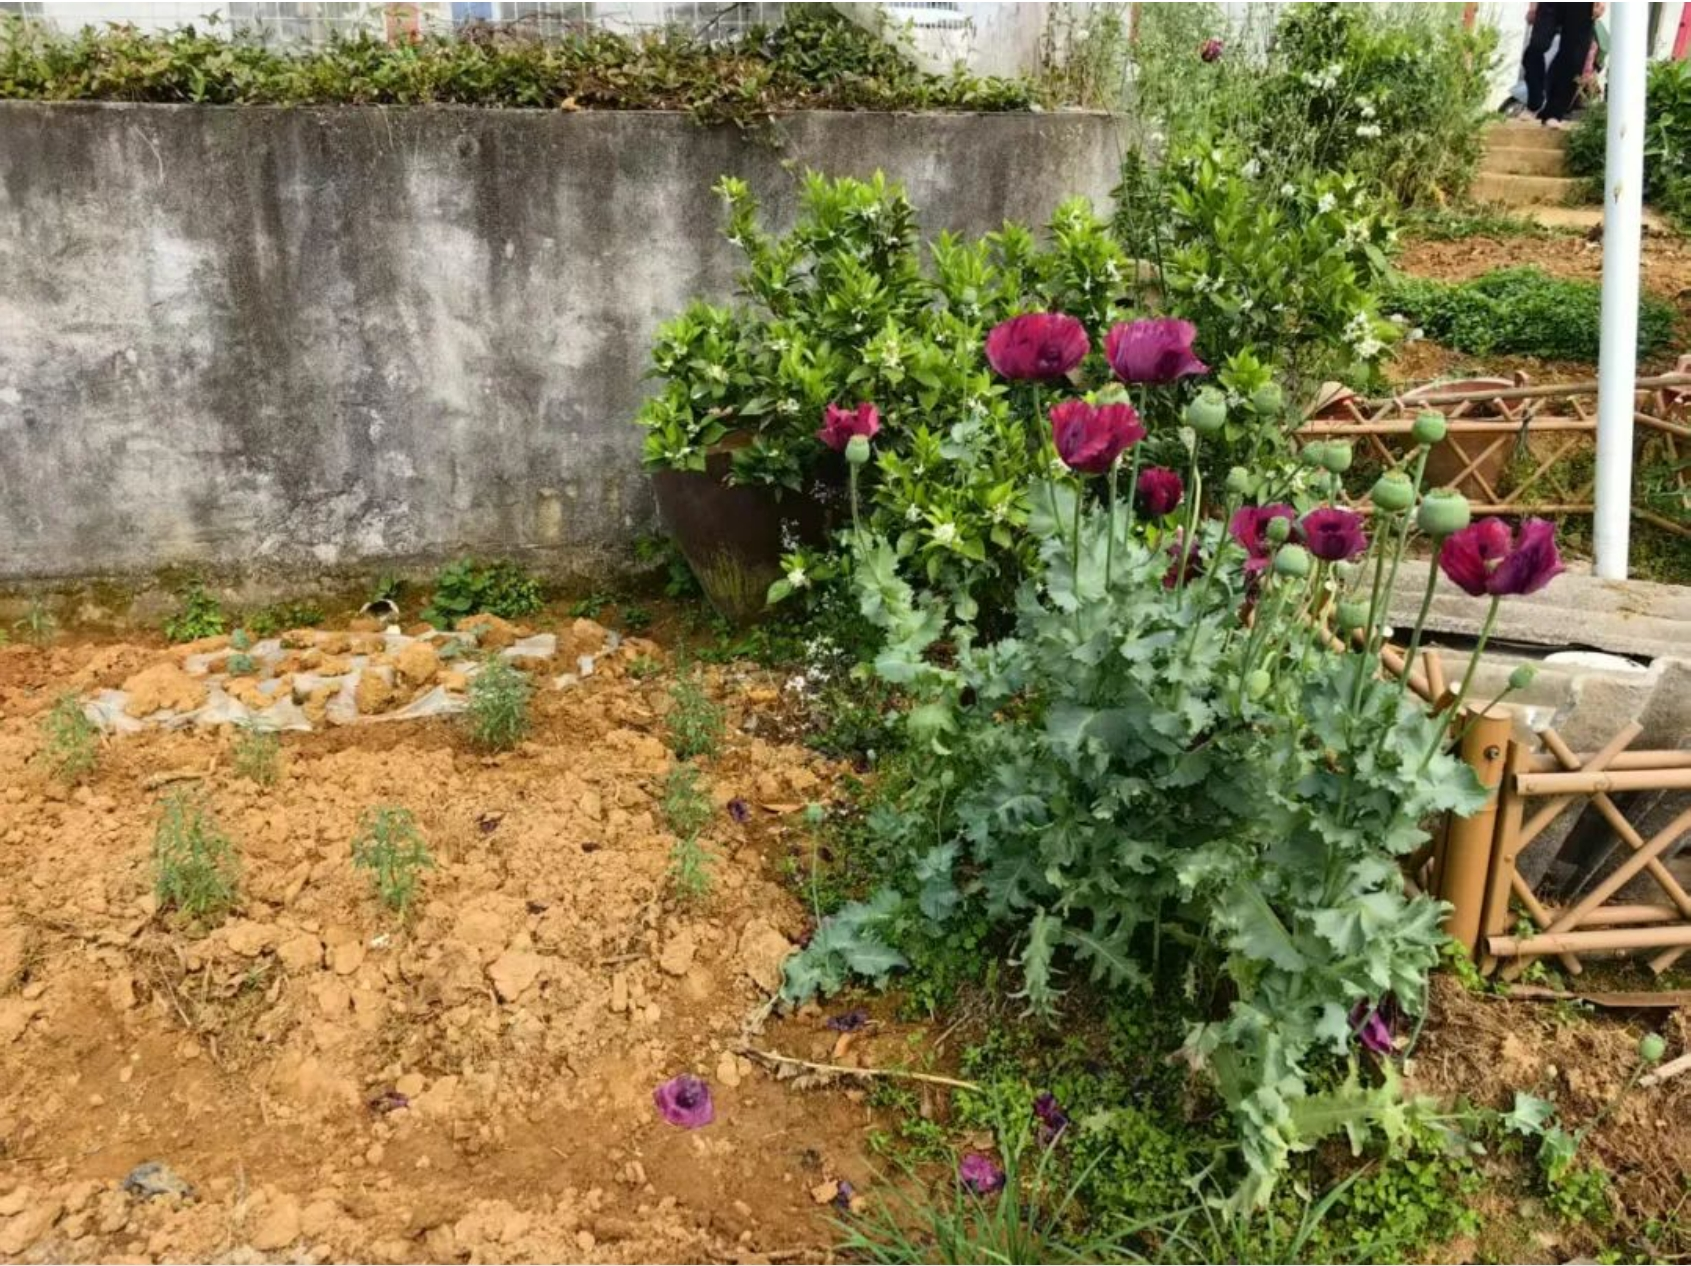Poppy: (806, 271, 1558, 1114)
